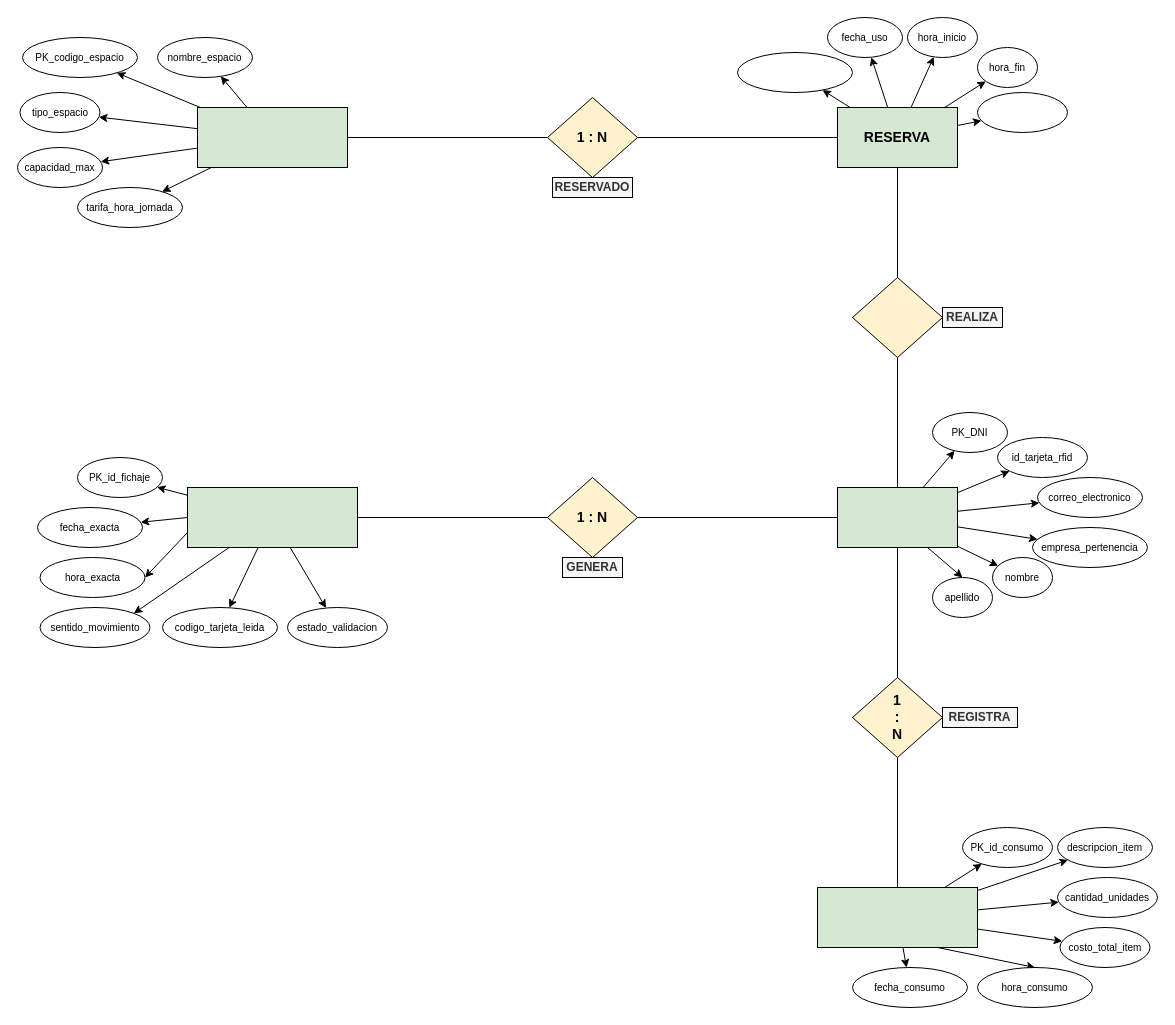
Some shapes in this 1175 by 1025 pixel diagram are drawn without their labels. Each missing label, with the box of its shape:
CONSUMO_ADICIONAL: (816, 886, 978, 948)
CONTROL_ACCESO: (186, 486, 358, 548)
ESPACIO_TRABAJO: (196, 106, 348, 168)
estado_reserva: (976, 92, 1068, 132)
MIEMBRO: (836, 486, 958, 548)
N : 1: (852, 276, 942, 358)
PK_codigo_reserva: (736, 52, 852, 92)
